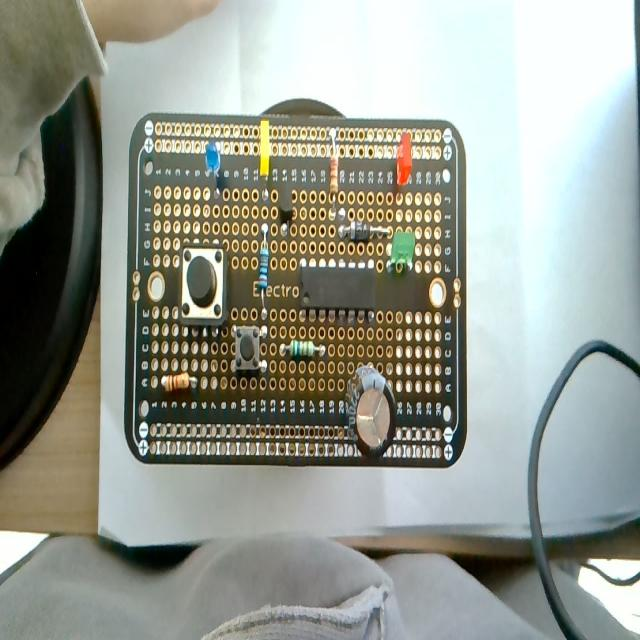Electrolytic capacitor: (337, 351, 399, 464)
IC: (300, 261, 377, 316)
diode: (338, 217, 394, 244)
led: (253, 121, 277, 185), (394, 230, 418, 279), (204, 140, 222, 196), (396, 130, 413, 187)
resistor: (277, 332, 331, 374), (328, 132, 340, 208), (258, 225, 270, 298), (162, 372, 198, 392)
switch: (180, 244, 227, 325), (231, 324, 267, 372)
transistor: (277, 192, 295, 233)
